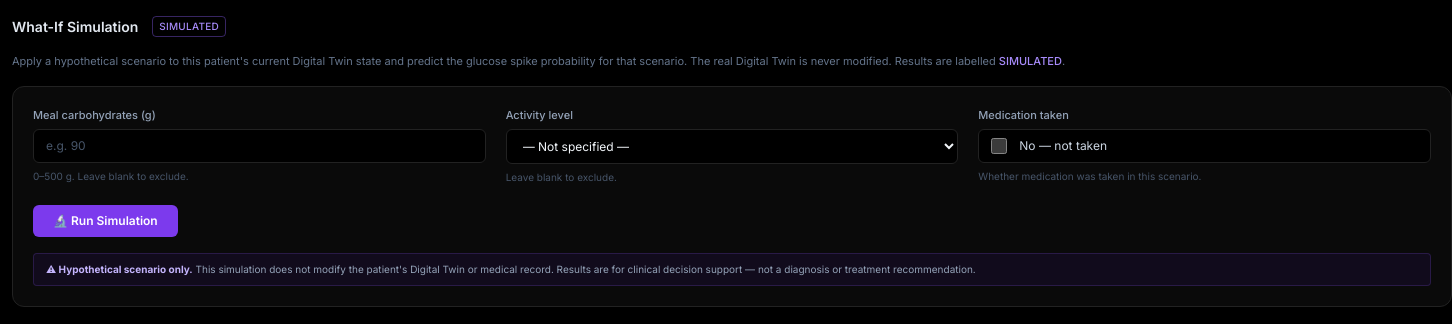
Test: WhatIfSimulationPanel › disables the Run Simulation button while pending
Type "60" into the number field labelled "Meal carbohydrates (g)" at (259, 146), box left=33, top=129, right=486, bottom=163
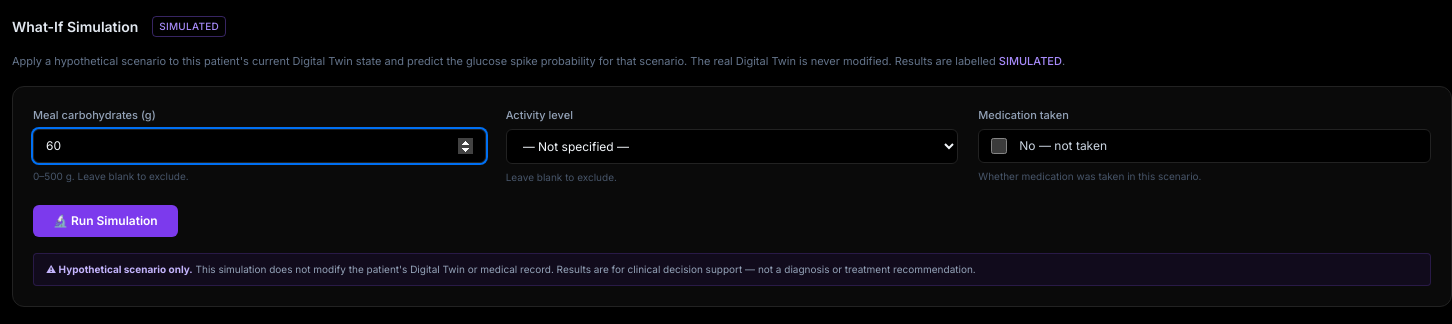
Click the button with test id "run-simulation-button" at (105, 221), box left=33, top=205, right=178, bottom=237
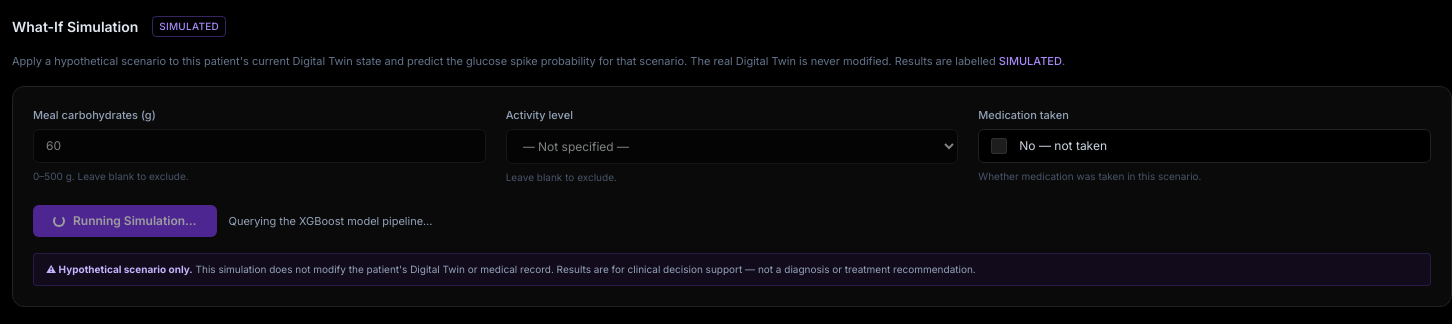
Expected: the button with test id "run-simulation-button" is disabled, left=33, top=205, right=216, bottom=237
